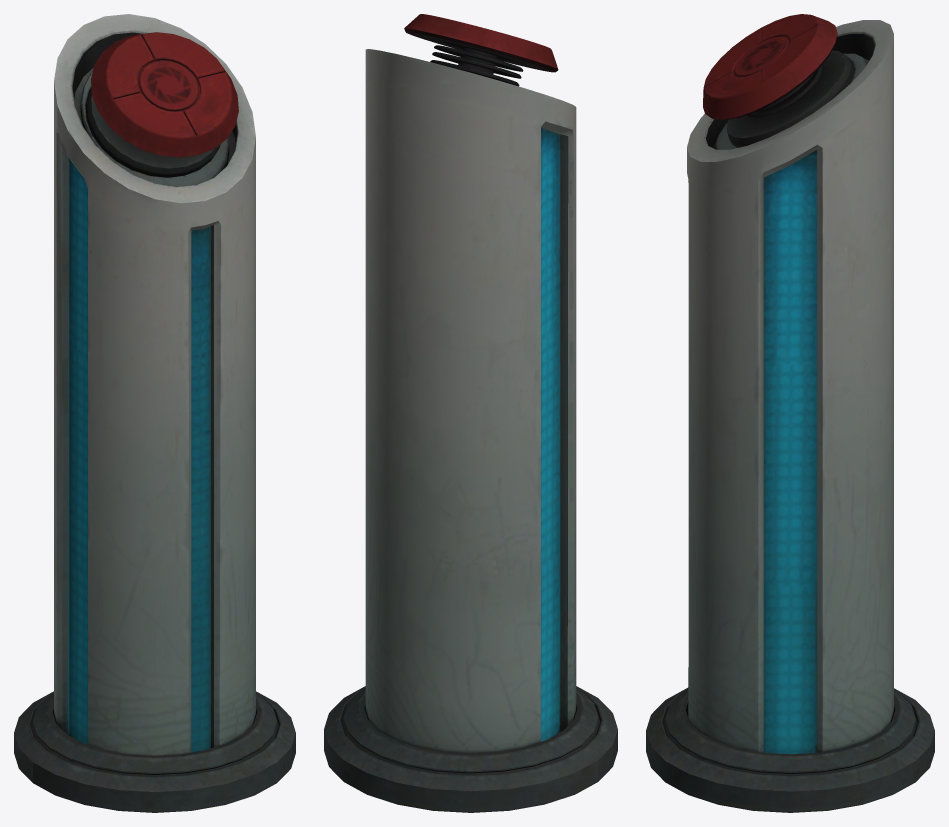
Rendered from switch001.obj.
3 views of the same model, side by side, from view 1: azimuth 30°, elevation 25°; view 2: azimuth 150°, elevation 25°; view 3: azimuth 270°, elevation 25° (orthographic). The views are drawn at different scales.
Visible parts, largest first — view 1: g0; view 2: g0; view 3: g0.
Boxes of the visible parts, box(x1,y1,x2,y2) form: g0: box(14, 14, 295, 812); g0: box(324, 14, 617, 812); g0: box(646, 14, 934, 812).
Bounding box in the file's own units: 16.82 × 46.72 × 16.82.
Materials: 1 (1 with a texture image).
